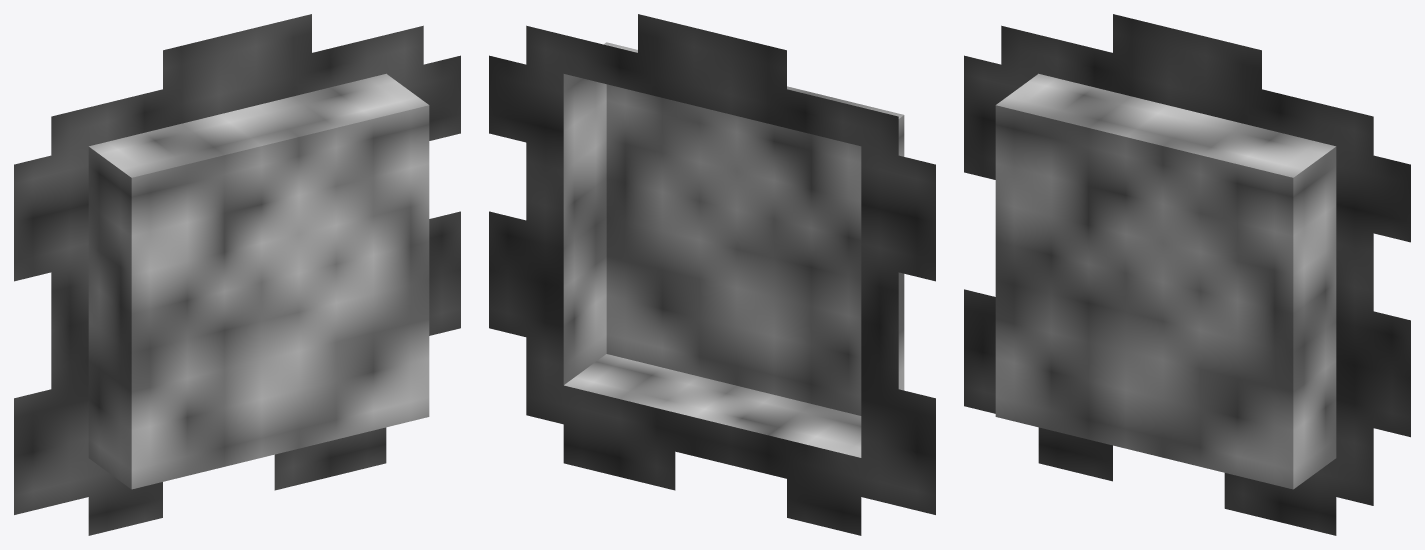
The model's file is tile_granite.fbx.
3 renders of one model, left to right at view 1: azimuth 30°, elevation 25°; view 2: azimuth 150°, elevation 25°; view 3: azimuth 330°, elevation 25°, orthographic.
Visible parts, largest first — view 1: tile_granite; view 2: tile_granite; view 3: tile_granite.
Boxes of the visible parts, box(x1,y1,x2,y2) form: tile_granite: box(14, 14, 460, 535); tile_granite: box(489, 14, 935, 535); tile_granite: box(964, 14, 1410, 535).
Bounding box in the file's own units: 0.25 × 1.5 × 1.5.
